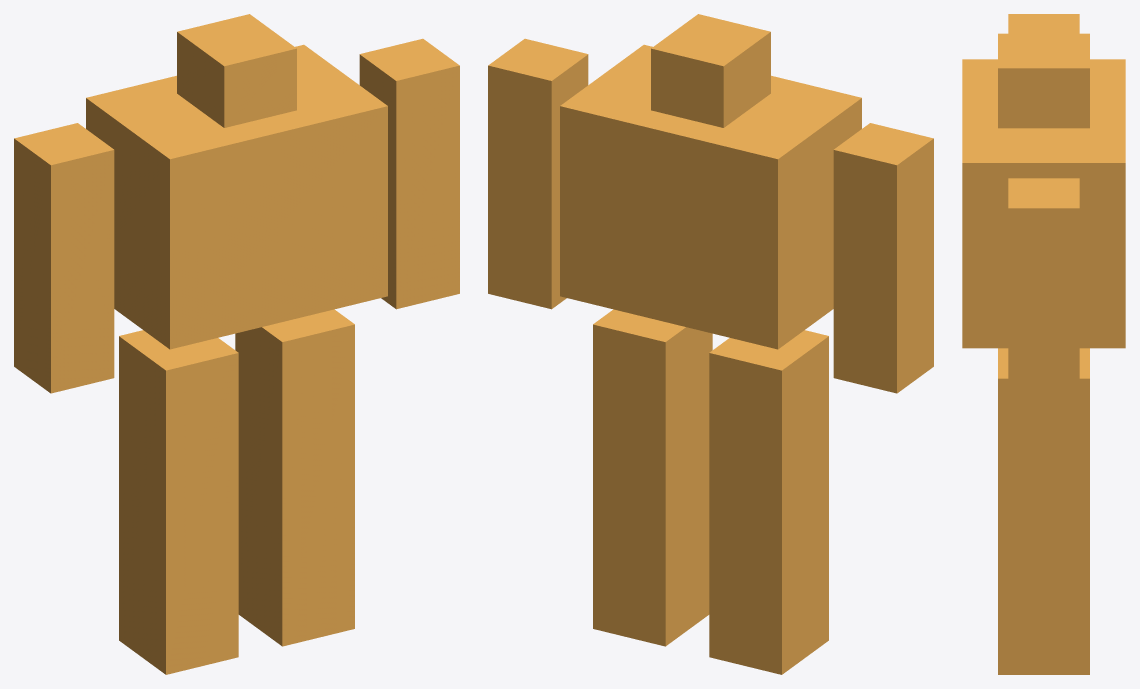
Rendered from hero-mech.gltf.
The picture shows the model from 3 angles, left to right: view 1: azimuth 30°, elevation 25°; view 2: azimuth 150°, elevation 25°; view 3: azimuth 270°, elevation 25°; orthographic projection. The views are drawn at different scales.
Parts seen in each view (by area): view 1: torso, leftLeg, rightLeg, leftArm, rightArm, head; view 2: torso, leftLeg, rightLeg, leftArm, rightArm, head; view 3: torso, rightLeg, rightArm, head, leftArm.
Part boxes in pixels (bbox=[...]): torso: bbox=[86, 44, 387, 349]; leftLeg: bbox=[119, 330, 238, 674]; rightLeg: bbox=[235, 309, 354, 646]; leftArm: bbox=[14, 123, 114, 393]; rightArm: bbox=[359, 38, 459, 309]; head: bbox=[177, 14, 296, 127]; torso: bbox=[560, 44, 861, 349]; leftLeg: bbox=[709, 330, 828, 674]; rightLeg: bbox=[593, 309, 712, 646]; leftArm: bbox=[833, 123, 933, 393]; rightArm: bbox=[488, 38, 588, 309]; head: bbox=[651, 14, 770, 127]; torso: bbox=[962, 59, 1125, 348]; rightLeg: bbox=[998, 348, 1089, 674]; rightArm: bbox=[1008, 178, 1079, 430]; head: bbox=[998, 33, 1089, 128]; leftArm: bbox=[1008, 14, 1079, 33].
Bounding box in the file's own units: 2.25 × 3.12 × 0.8.
